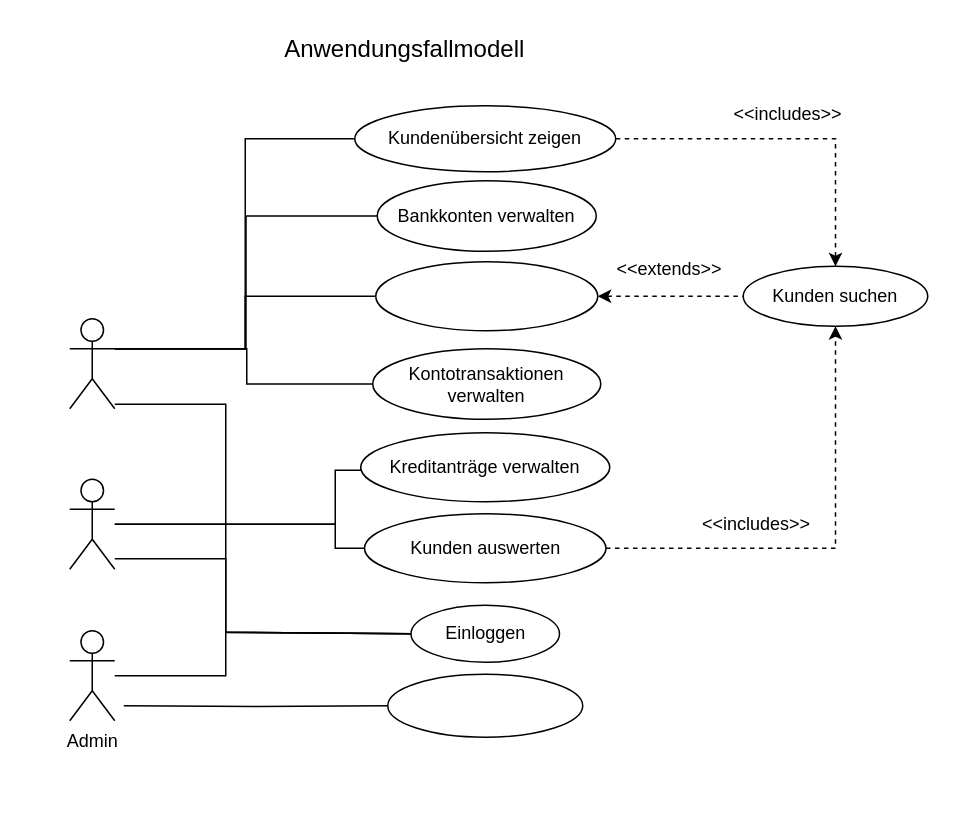
Image size: 954x821. Some labels were removed from this diagram. Each missing label, with the box of its shape:
Benutzer verwalten: (386, 673, 583, 737)
Kreditmitarbeiter: (68, 478, 115, 569)
Kundendaten pflegen: (374, 260, 598, 331)
Kundenservice: (68, 317, 115, 409)
